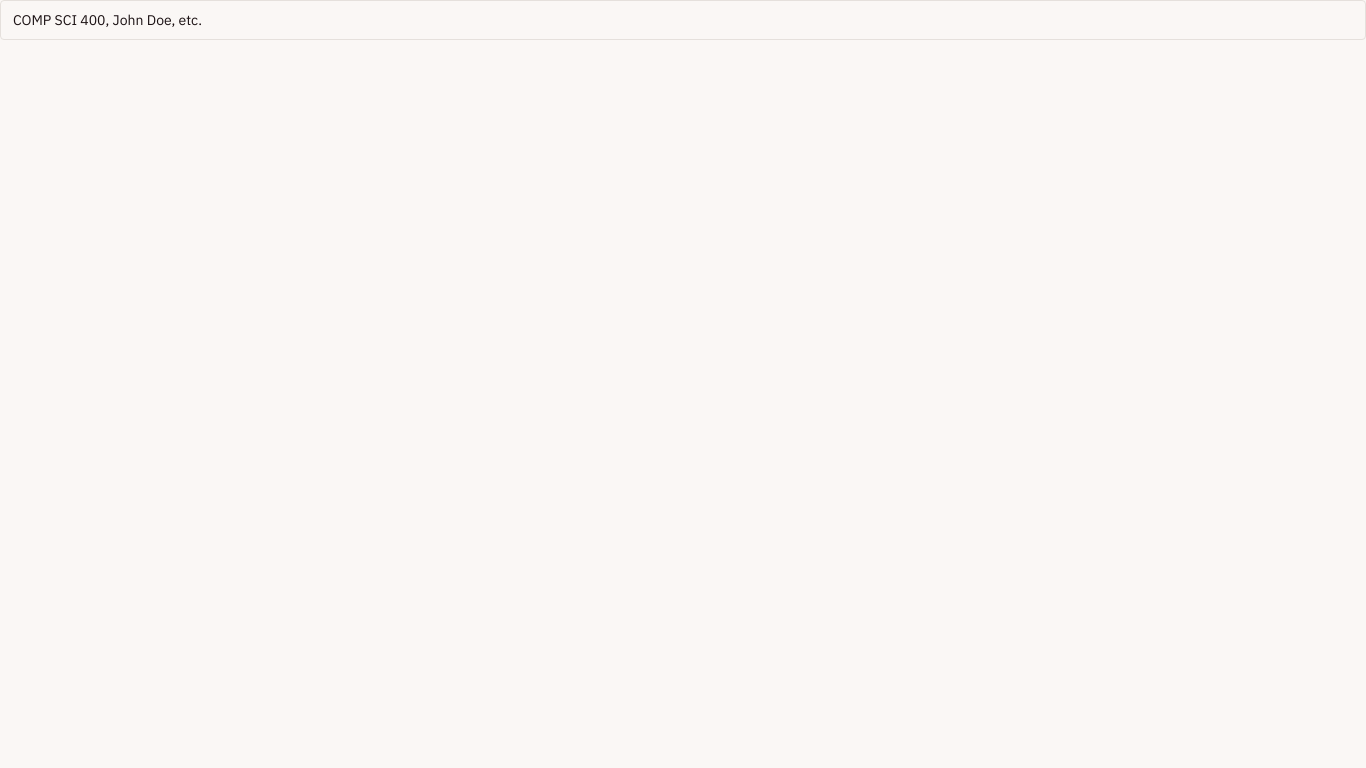
Test: SearchAutocomplete › Enter with no active option runs the search with the typed text
Later steps or results of the test are not shown.
In the dropdown: coordinates (683, 20) [0, 0, 1365, 40], type "comp"
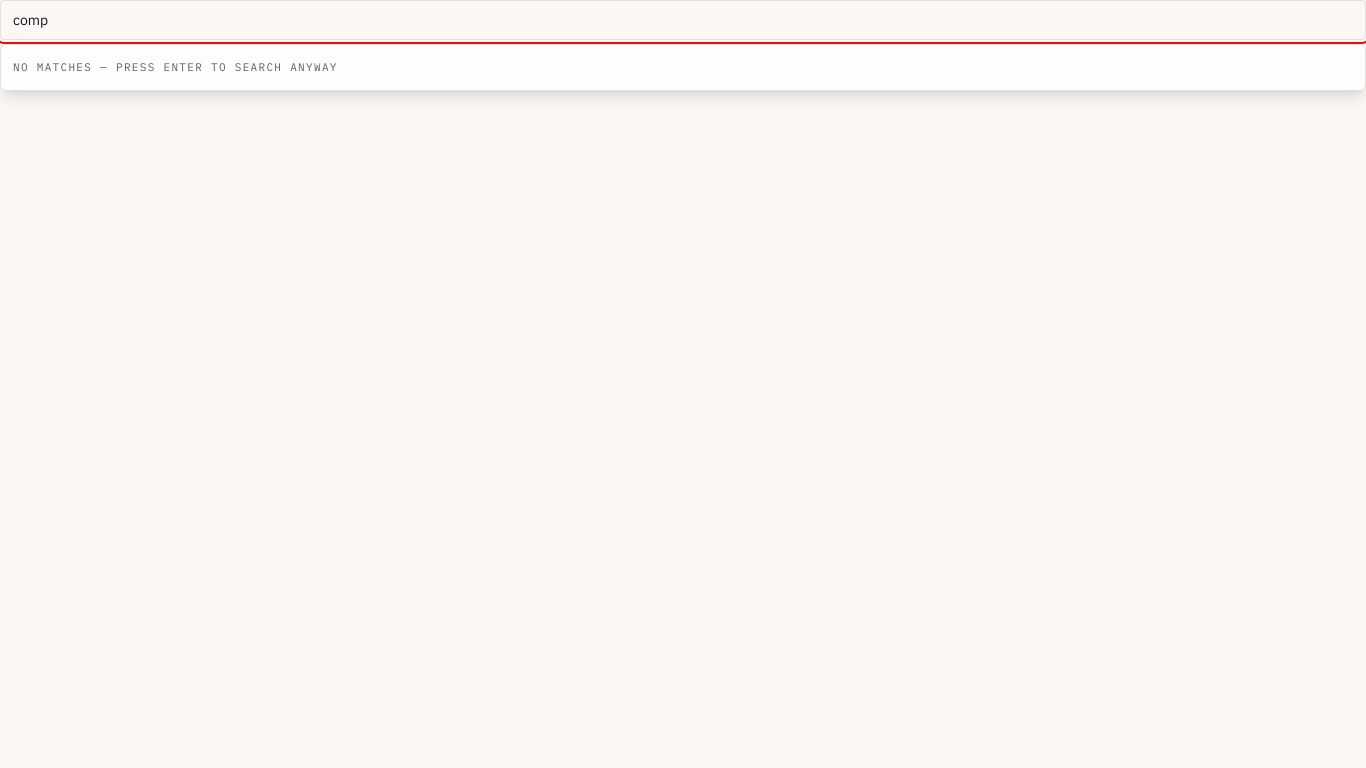
Check: the list is shown, box [13, 60, 338, 74]
